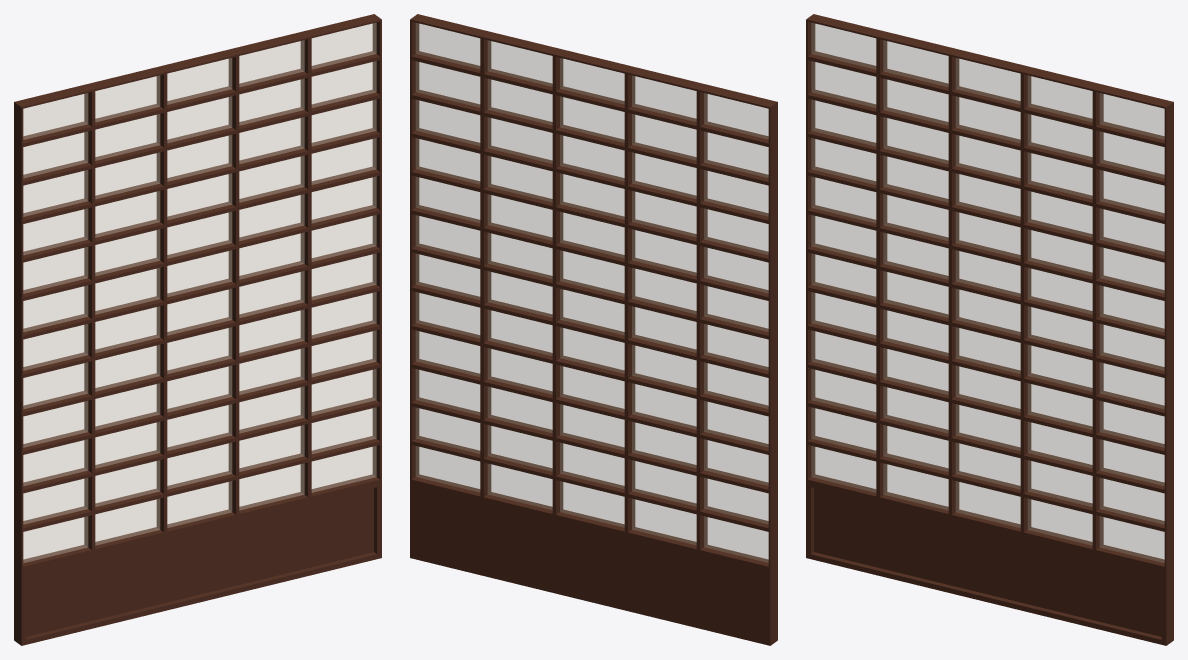
Rendered from PaperWall.fbx.
3 renders of one model, left to right at view 1: azimuth 30°, elevation 25°; view 2: azimuth 150°, elevation 25°; view 3: azimuth 330°, elevation 25°, orthographic.
Visible parts, largest first — view 1: Plane.026; view 2: Plane.026; view 3: Plane.026.
Boxes of the visible parts, x1=… form: Plane.026: x1=14, y1=14, x2=381, y2=645; Plane.026: x1=410, y1=14, x2=777, y2=645; Plane.026: x1=806, y1=14, x2=1173, y2=645.
Bounding box in the file's own units: 1400 × 2000 × 50.
